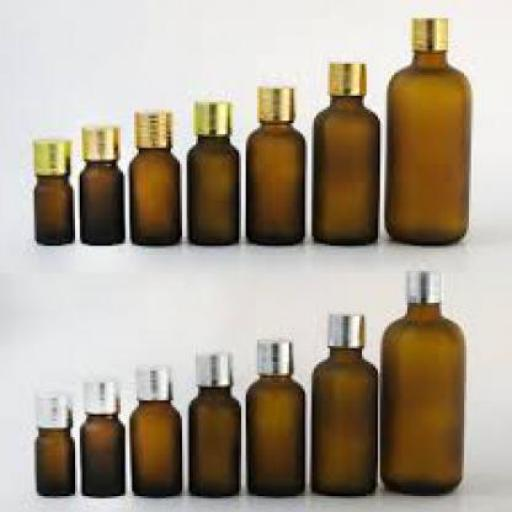glass: (387, 50, 476, 242), (383, 302, 466, 492), (311, 348, 383, 494), (314, 93, 383, 245), (246, 375, 310, 496), (248, 123, 307, 244), (189, 387, 243, 495), (189, 134, 241, 246), (132, 148, 184, 244), (132, 398, 182, 494), (82, 159, 130, 243), (84, 412, 126, 494), (36, 173, 78, 245), (38, 425, 78, 494)
metal: (197, 348, 237, 387), (259, 82, 296, 121), (193, 96, 233, 132), (259, 336, 296, 374), (36, 138, 76, 173), (136, 112, 173, 148), (136, 362, 175, 396), (409, 266, 446, 300), (39, 389, 73, 426), (416, 16, 453, 50), (84, 125, 123, 157), (332, 310, 368, 342), (330, 59, 367, 89), (89, 380, 123, 412)
